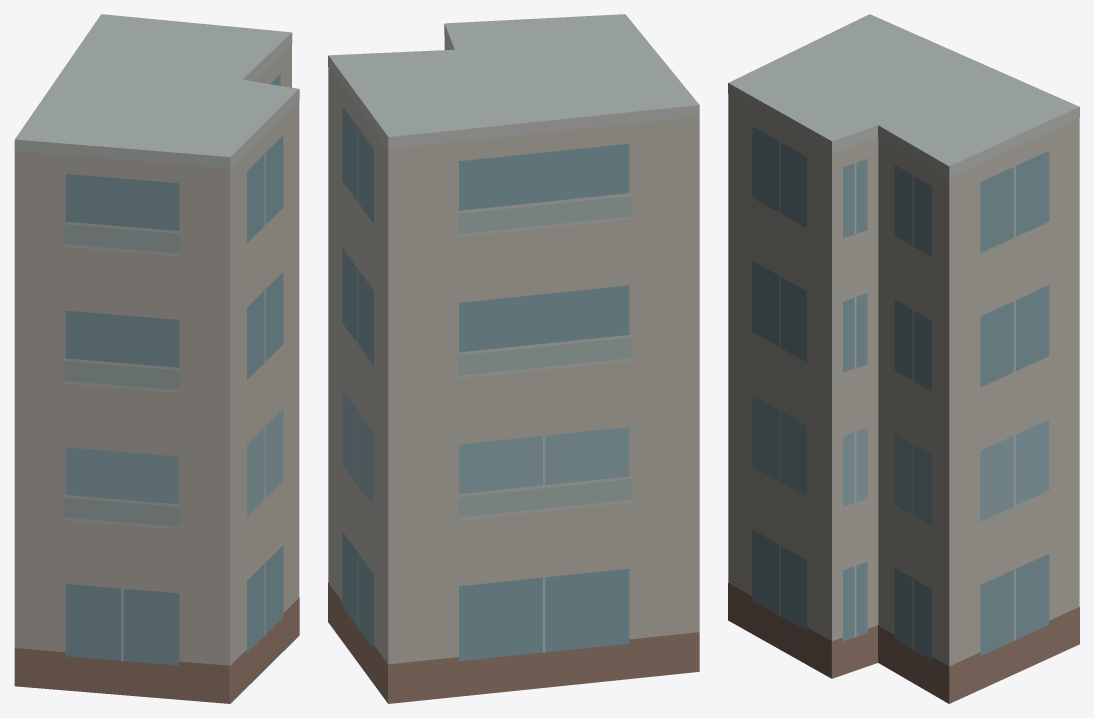
File: survey-upis-32950608.glb
3 renders of one model, left to right at view 1: azimuth 30°, elevation 25°; view 2: azimuth 150°, elevation 25°; view 3: azimuth 270°, elevation 25°, orthographic. The views are drawn at different scales.
Visible parts, largest first — view 1: survey-upis-32950608.tmp; view 2: survey-upis-32950608.tmp; view 3: survey-upis-32950608.tmp.
Part boxes in pixels (left/top/right/bottom): survey-upis-32950608.tmp: left=14, top=14, right=299, bottom=703; survey-upis-32950608.tmp: left=328, top=14, right=699, bottom=703; survey-upis-32950608.tmp: left=728, top=14, right=1079, bottom=703.
Bounding box in the file's own units: 7.13 × 11.7 × 6.95.
